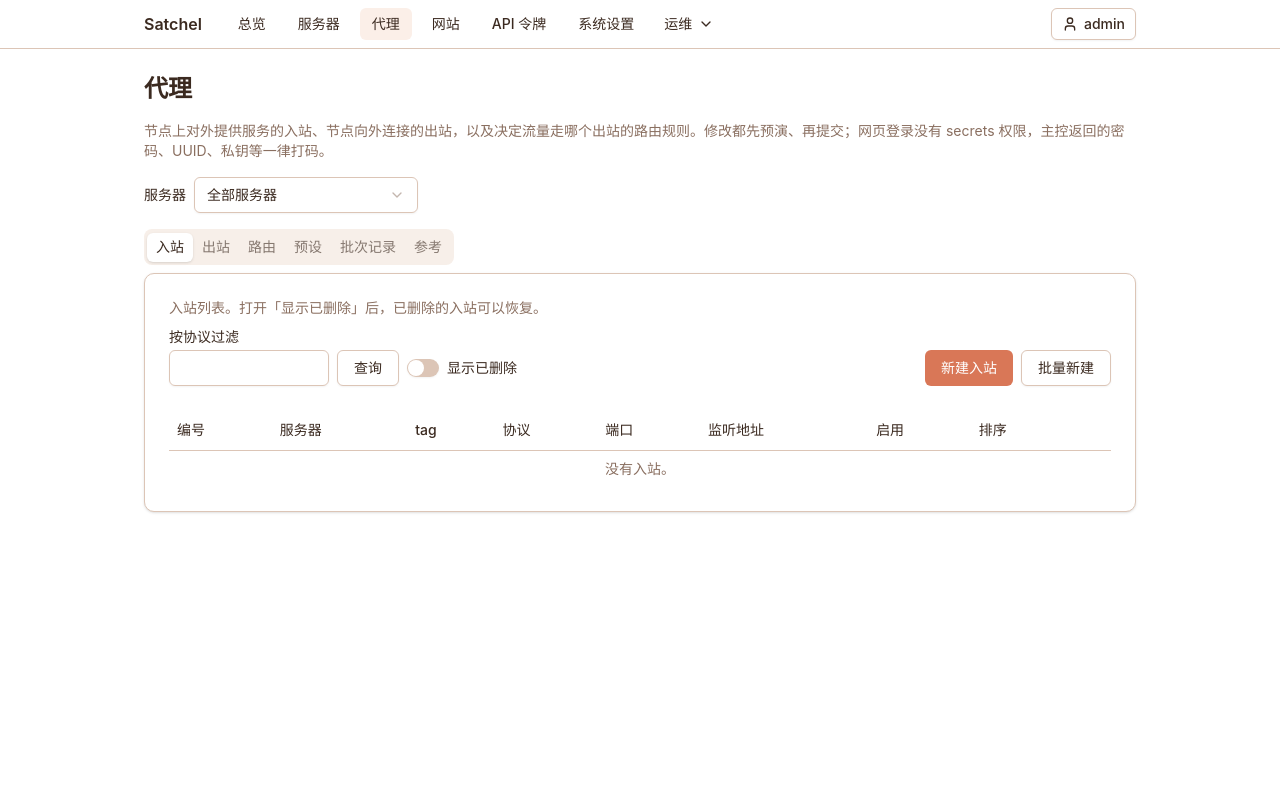
Test: 代理页：预设 › 内置预设的默认出站不在这台服务器上：选项写明这台服务器上没有；服务器默认取页面上选的那台
The width and height of the screenshot is (1280, 800).
Click the dropdown labelled "服务器" at (306, 195), box [194,177,418,213]
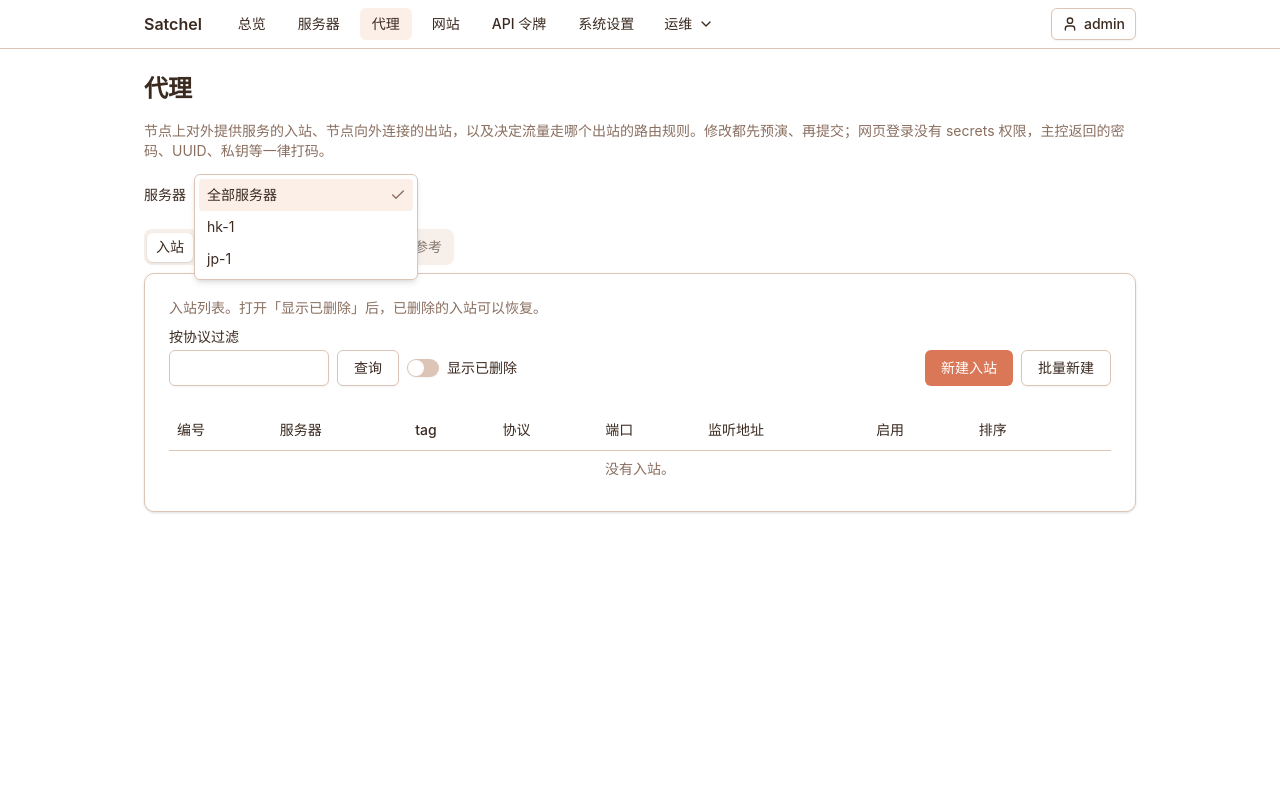
Click the option "jp-1" at (219, 258), box [207,250,231,267]
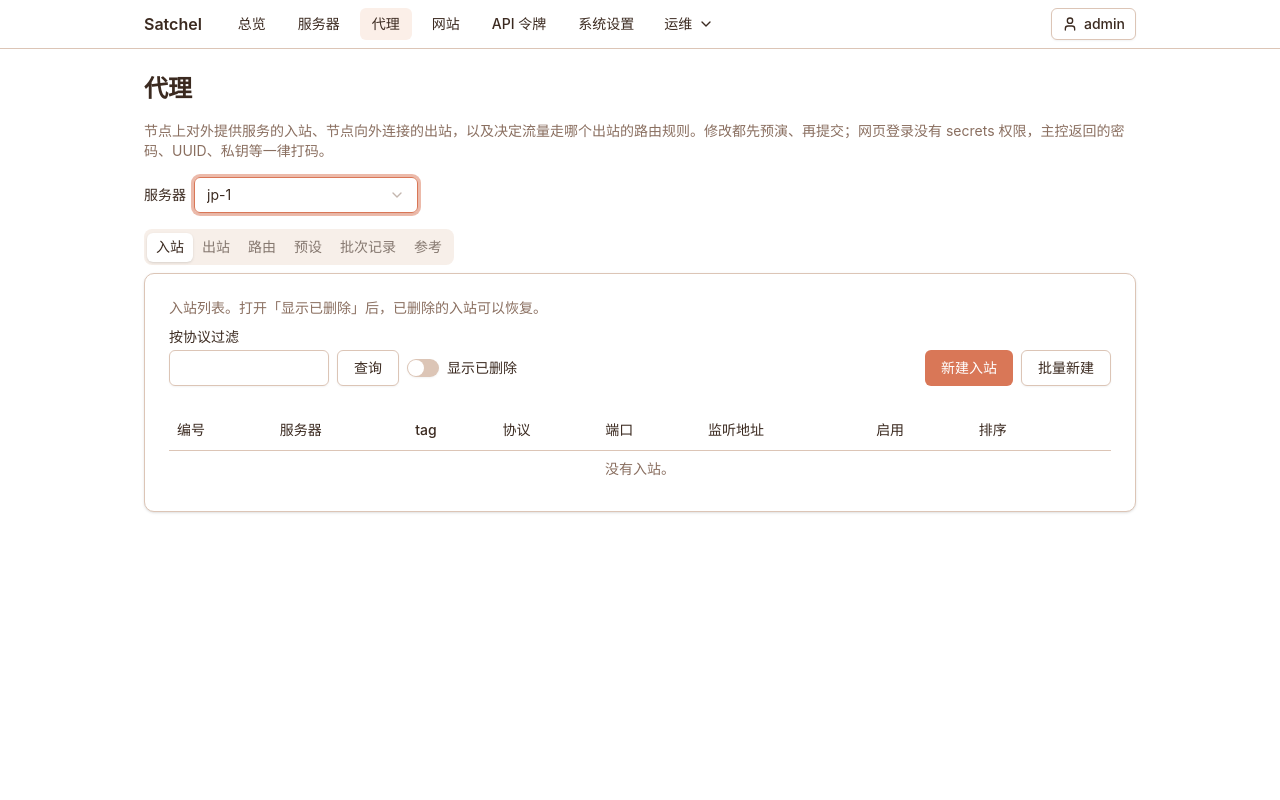
Click the tab "预设" at (308, 247), box [285,232,331,262]
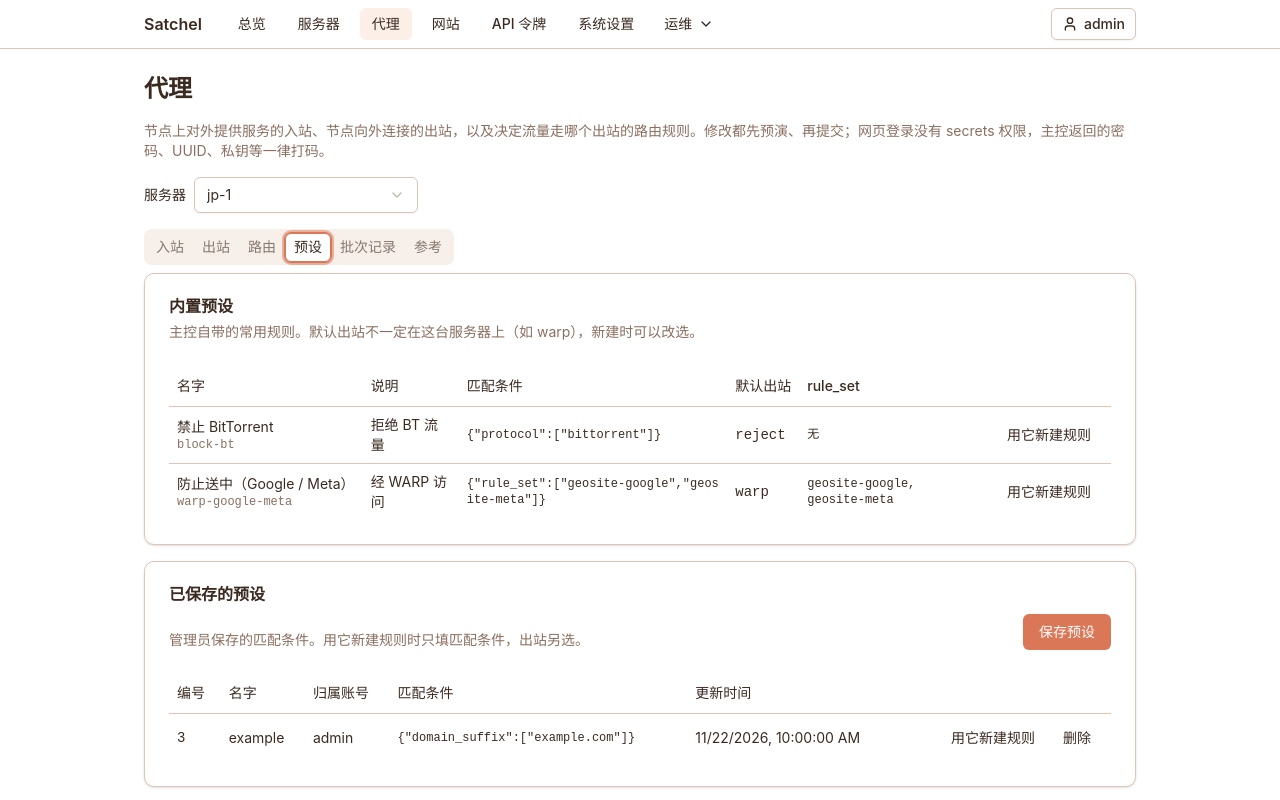
Click the button "用它新建规则" in the row of "防止送中（Google / Meta）" at (1049, 492), box [995,476,1103,508]
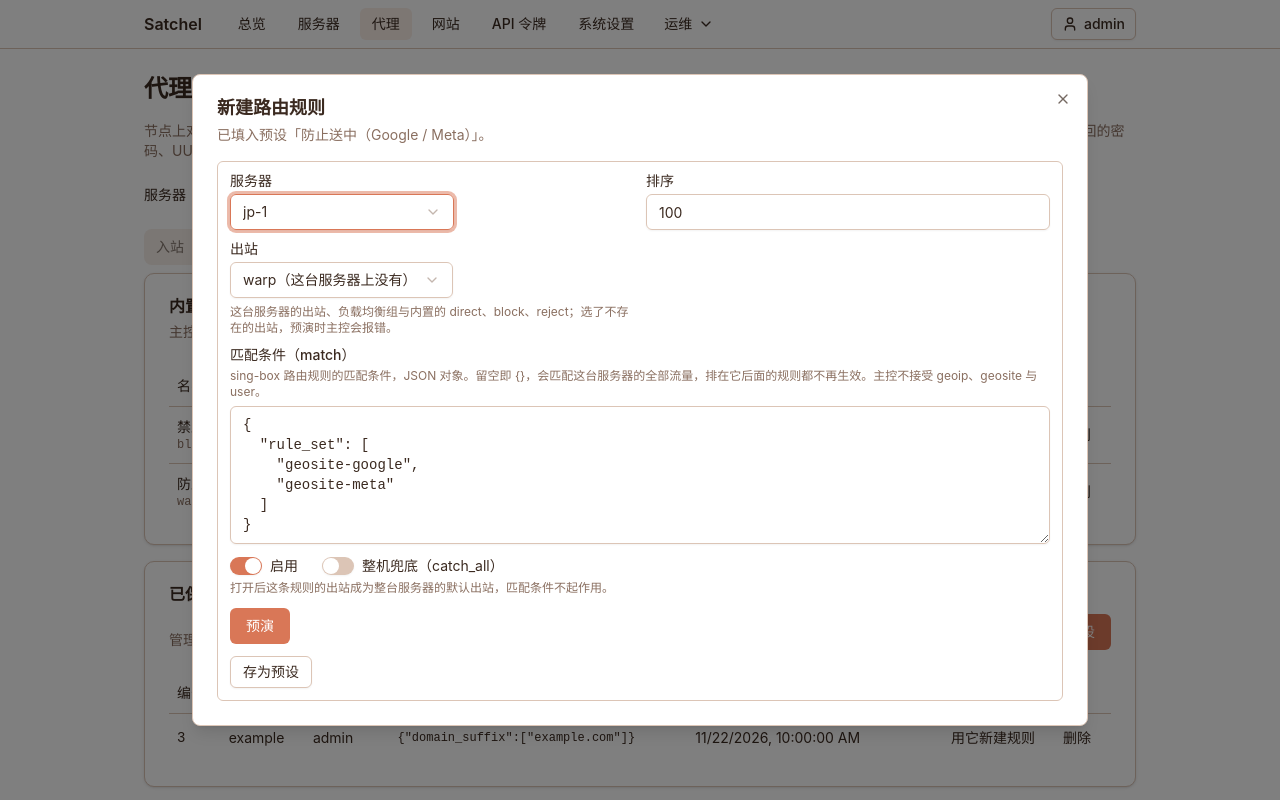
Click the dropdown named "出站" at (342, 280), box [230,262,453,298]
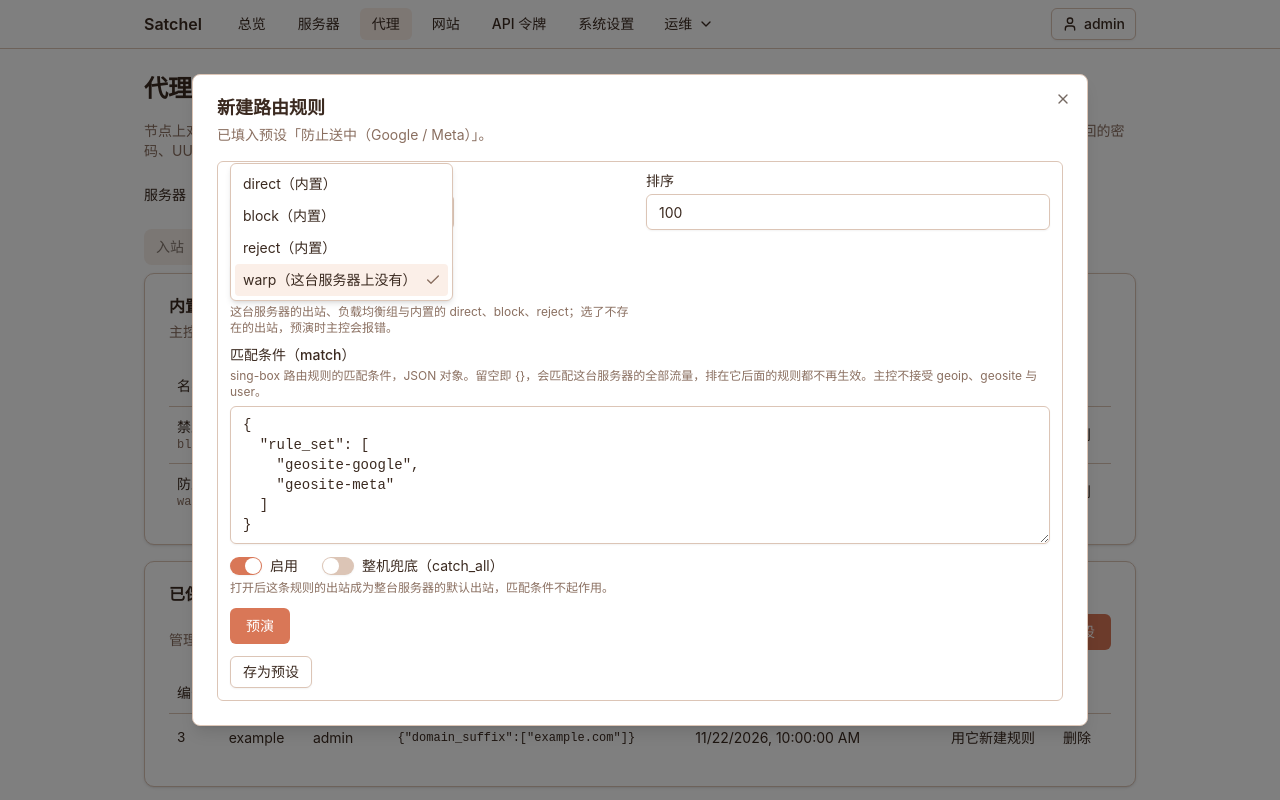
Now the option "warp（这台服务器上没有）" is shown, box [235,264,448,296]
